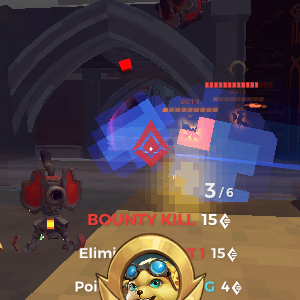model: (232, 109, 248, 133), (185, 121, 199, 147)
